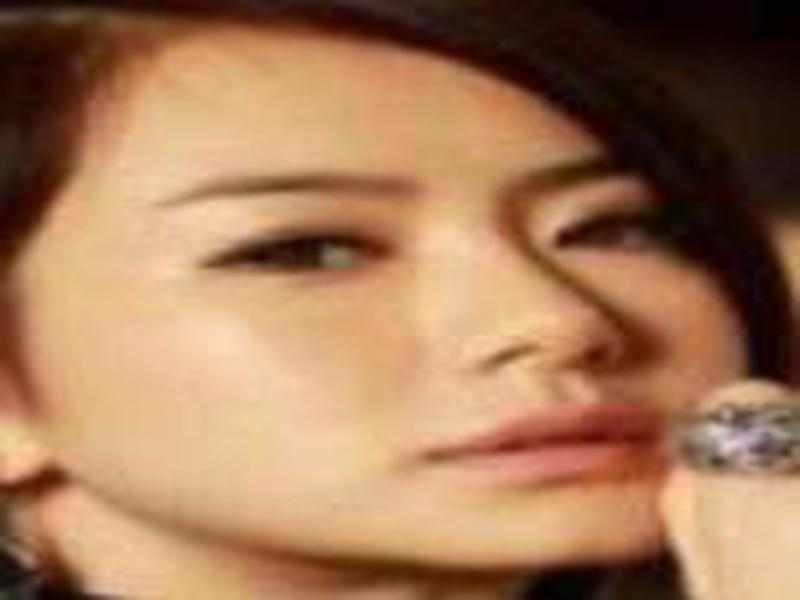without_mask: (21, 34, 757, 572)
